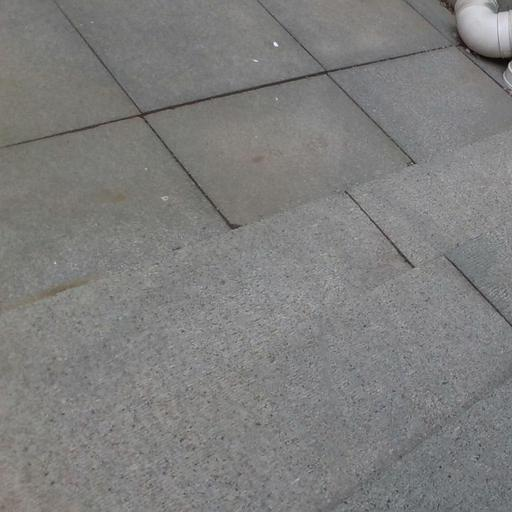stairs: (0, 133, 511, 511)
